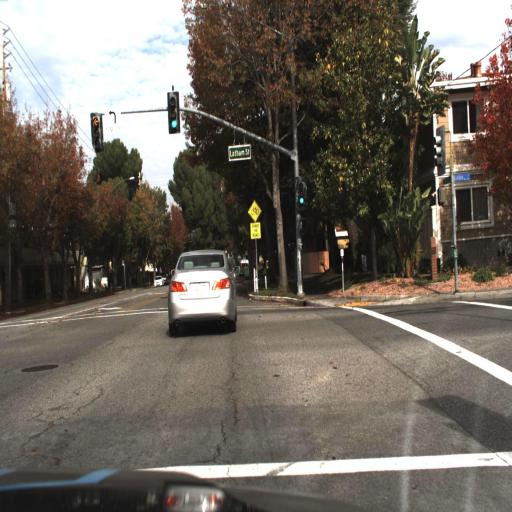car: (165, 249, 243, 336), (152, 270, 165, 292)
trafficLight: (167, 91, 180, 137)
trafficLight-Green: (294, 177, 308, 211)
trafficLight-RedLeft: (91, 114, 105, 155)
